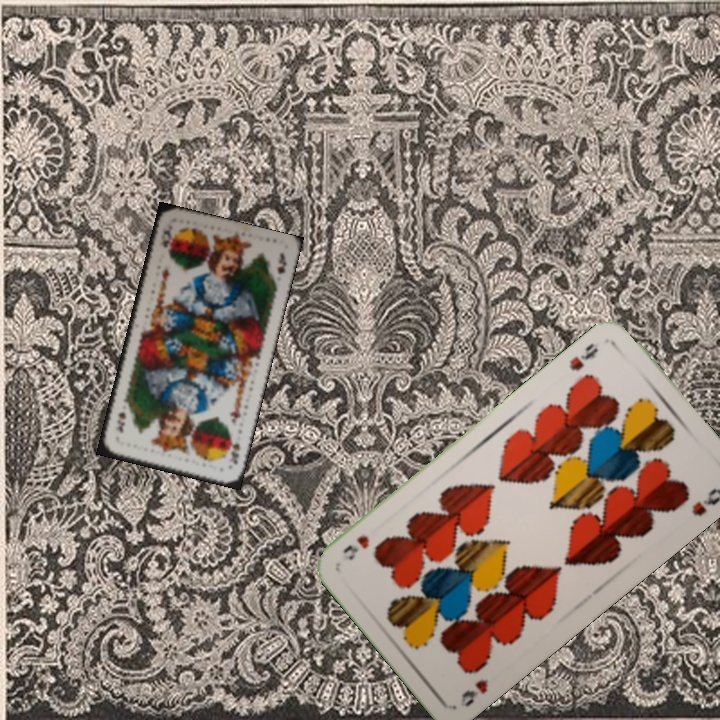H9: (565, 338, 601, 373), (456, 675, 491, 710)
SK: (224, 433, 243, 467), (157, 222, 174, 250)
